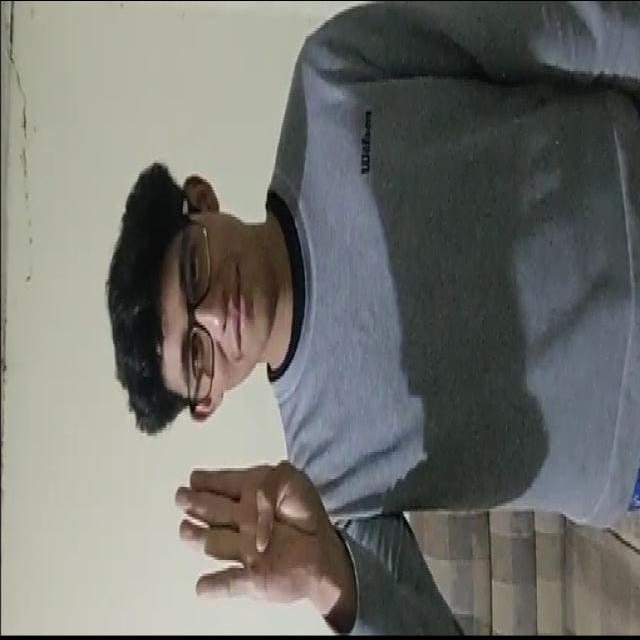B: (163, 435, 350, 617)
